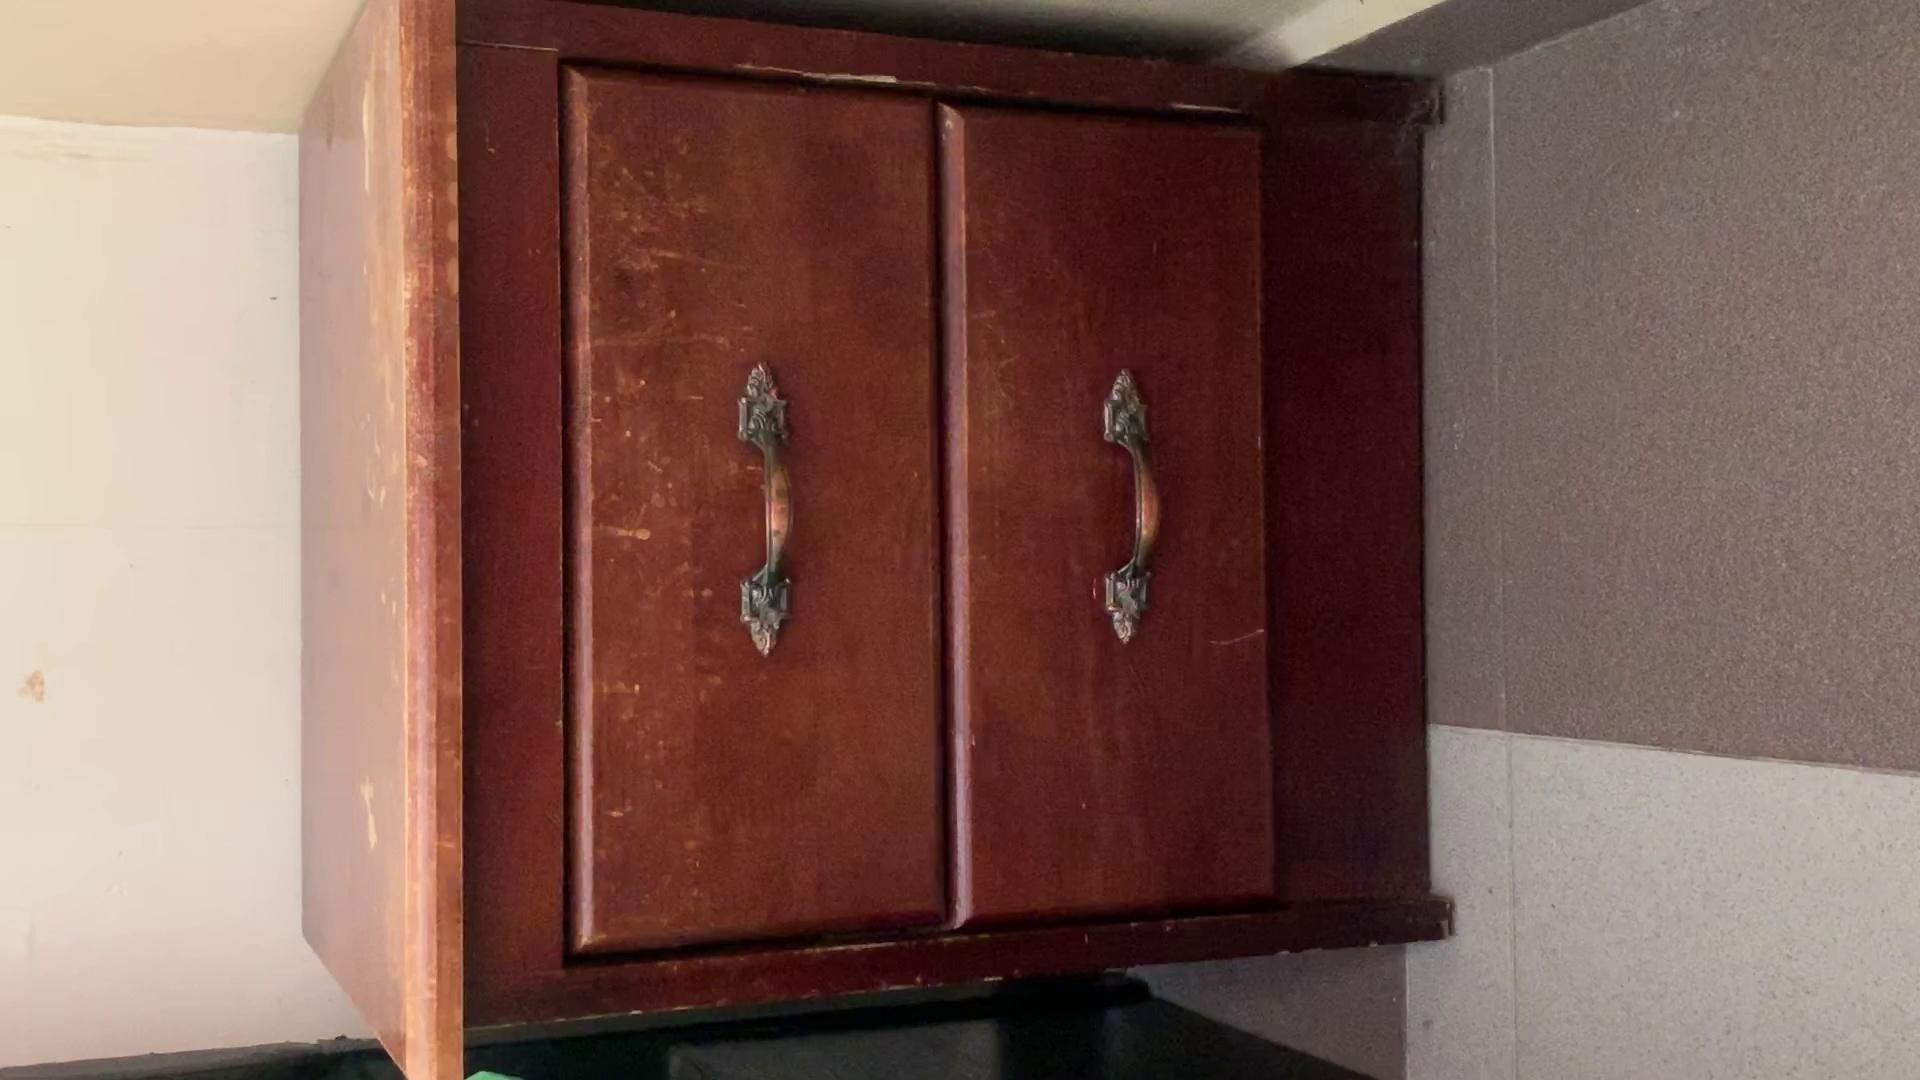cabinet_door: (572, 90, 935, 939), (944, 113, 1261, 910)
handle: (713, 365, 808, 657), (1089, 373, 1166, 644)
